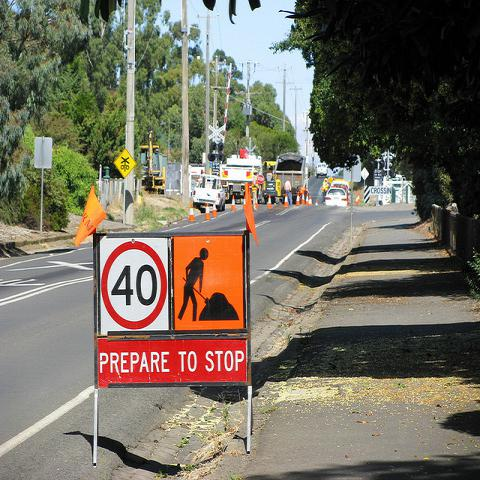car: (324, 187, 348, 207), (330, 180, 348, 194), (316, 162, 328, 179)
truck: (220, 149, 264, 202), (191, 174, 226, 213), (262, 167, 278, 197)
